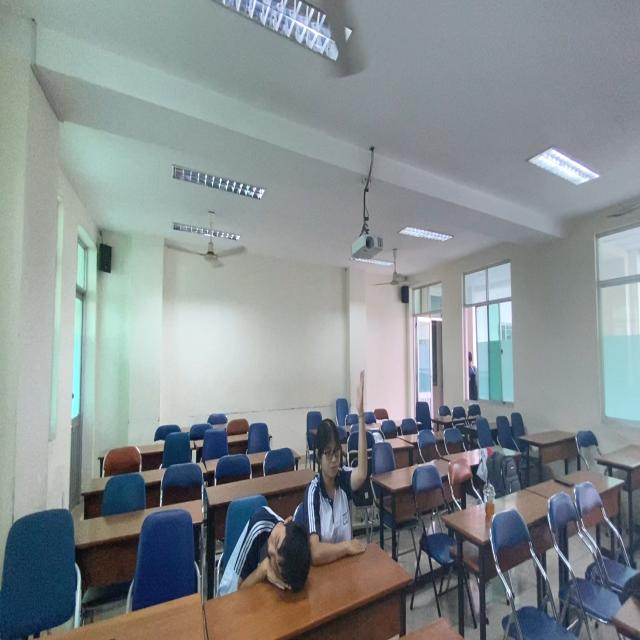raise_hand: (301, 365, 378, 559)
sleep: (217, 488, 320, 627)
